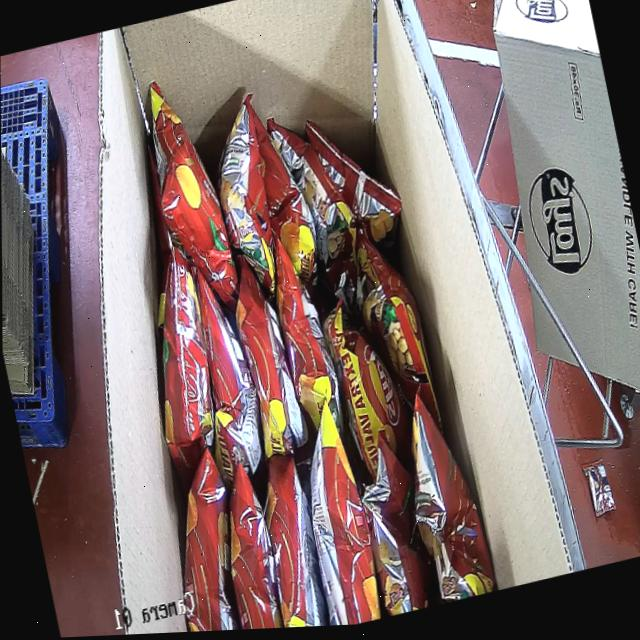MASALA: (79, 23, 497, 636)
